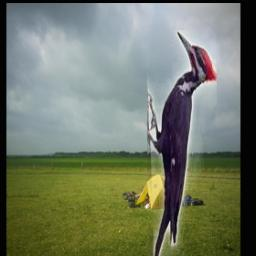Woodpecker: (147, 30, 217, 256)
